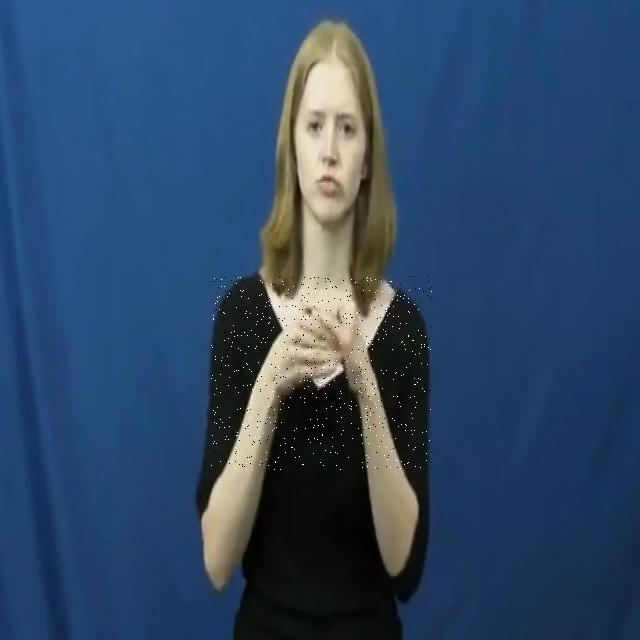additional: (211, 276, 432, 470)
